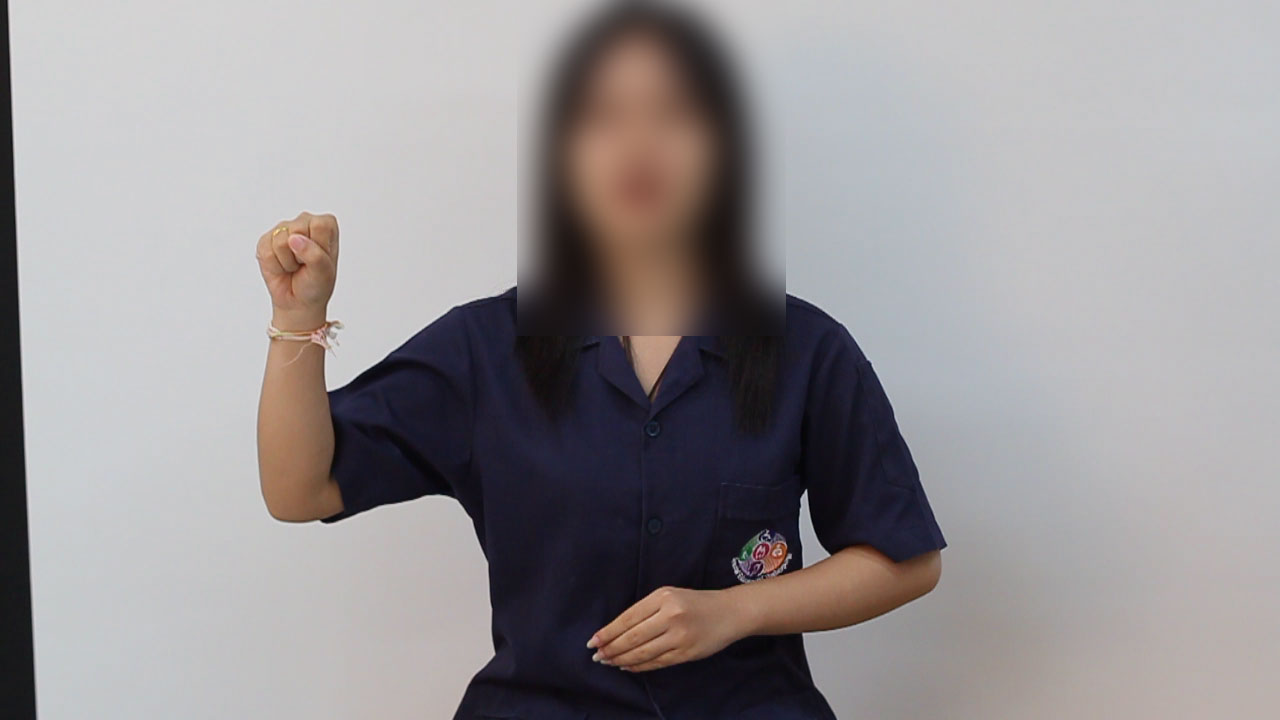sor: (238, 194, 364, 351)
